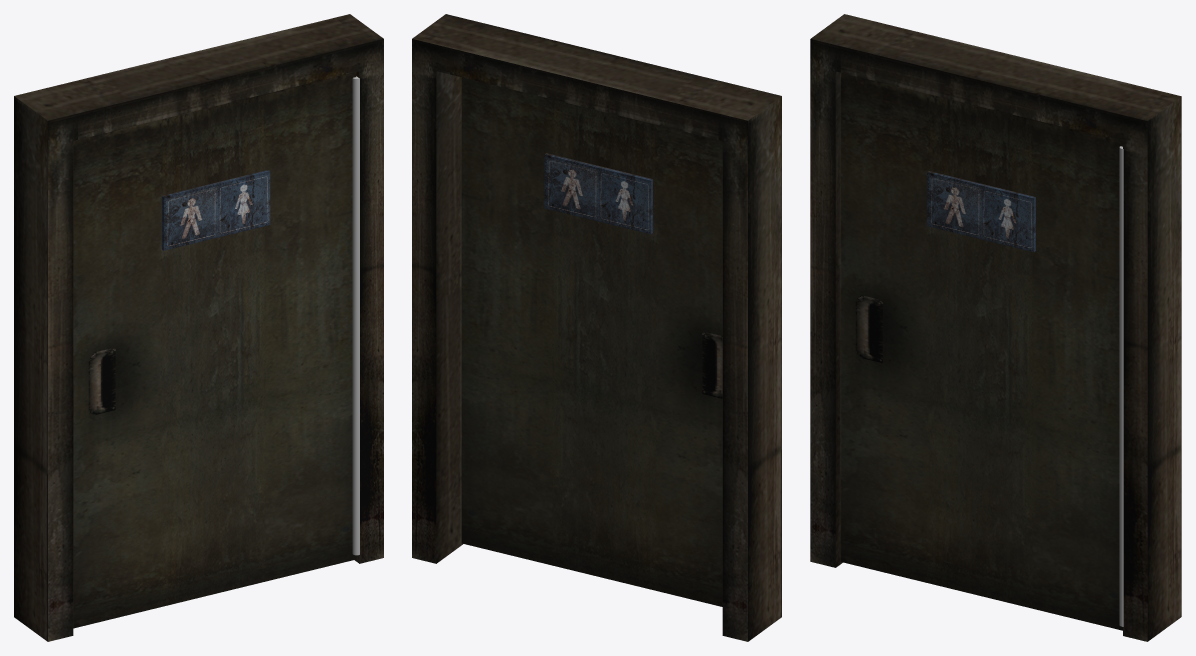
File: door_wc.dae
3 views of the same model, side by side, from view 1: azimuth 30°, elevation 25°; view 2: azimuth 150°, elevation 25°; view 3: azimuth 330°, elevation 25° (orthographic).
Visible parts, largest first — view 1: door, frame, _joint_hinge_door_null_0_120_nocollide_joint1; view 2: door, frame; view 3: door, frame, _joint_hinge_door_null_0_120_nocollide_joint1.
Part boxes in pixels (box(x1,y1,x2,y2)): door: box(73, 72, 356, 628); frame: box(14, 14, 383, 641); _joint_hinge_door_null_0_120_nocollide_joint1: box(352, 76, 359, 555); door: box(461, 77, 722, 606); frame: box(412, 14, 781, 641); door: box(840, 73, 1122, 630); frame: box(810, 14, 1181, 641); _joint_hinge_door_null_0_120_nocollide_joint1: box(1119, 146, 1123, 626).
Size of what is drawn, in the model's own units: 1.5 by 2.22 by 0.2634.
